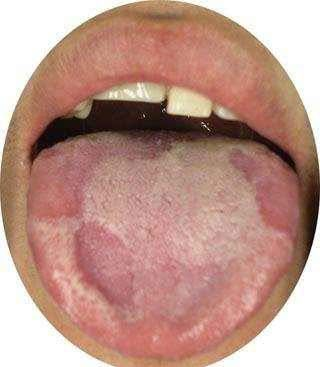baitaishe: (27, 130, 300, 359)
botaishe: (29, 145, 136, 308), (228, 144, 299, 247)
hongshe: (27, 130, 300, 359)
